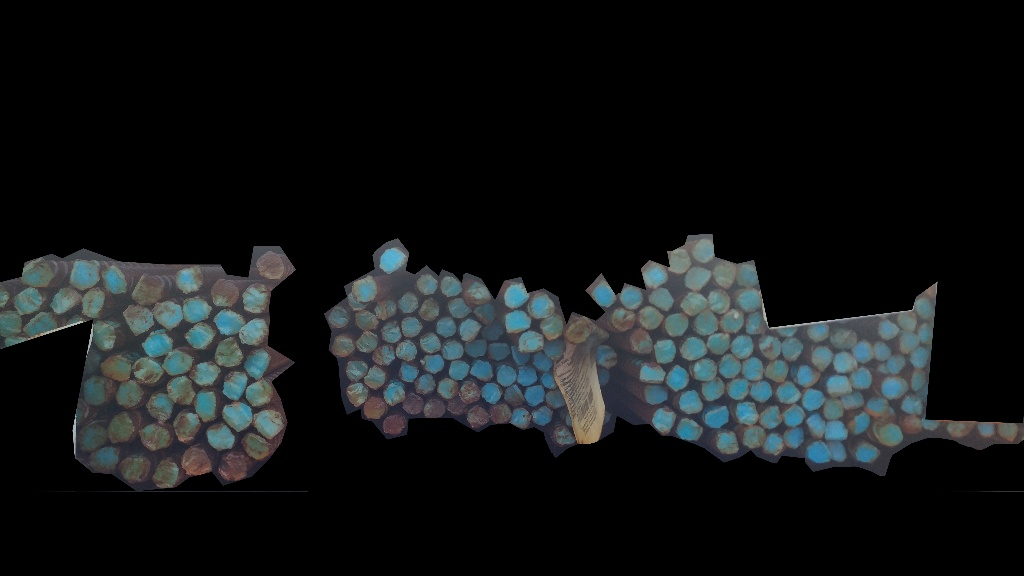dipstick: (180, 446, 212, 478), (21, 259, 54, 290), (68, 259, 102, 289), (253, 409, 284, 441), (123, 304, 154, 336), (221, 402, 252, 433), (240, 284, 270, 316), (80, 422, 108, 455), (107, 413, 136, 444), (150, 301, 183, 328), (242, 433, 272, 462), (218, 453, 247, 483), (12, 288, 43, 316), (161, 349, 194, 375), (212, 309, 246, 334), (238, 318, 267, 347), (174, 265, 203, 294), (115, 378, 143, 408), (193, 391, 220, 422), (139, 424, 170, 451), (101, 354, 132, 381), (141, 331, 174, 356), (351, 276, 379, 305), (211, 279, 239, 308), (214, 338, 243, 366), (132, 357, 162, 384), (184, 324, 215, 350), (131, 276, 163, 301), (255, 251, 283, 279), (118, 455, 145, 484), (101, 266, 128, 295), (221, 371, 247, 401), (174, 414, 200, 444), (24, 313, 56, 337), (379, 248, 408, 274), (206, 424, 235, 450), (50, 289, 80, 314), (246, 380, 273, 407), (146, 393, 174, 419), (183, 298, 212, 323), (92, 322, 117, 351), (504, 309, 531, 335), (167, 378, 193, 405), (245, 350, 270, 378), (152, 460, 177, 488), (91, 447, 116, 475), (83, 376, 107, 405), (188, 363, 219, 385), (642, 262, 668, 288), (79, 291, 105, 317), (462, 282, 491, 305), (775, 381, 801, 406), (680, 336, 706, 361), (680, 292, 707, 316), (504, 282, 528, 309), (652, 408, 677, 433), (649, 286, 674, 311), (539, 313, 563, 339), (684, 268, 711, 291), (666, 364, 689, 391), (833, 350, 858, 374), (713, 264, 737, 289), (665, 313, 690, 337), (592, 281, 616, 306), (594, 345, 618, 370), (825, 374, 851, 397), (721, 307, 744, 333), (693, 311, 719, 334), (811, 345, 833, 372), (830, 328, 858, 349), (529, 296, 554, 319), (519, 331, 544, 354), (458, 318, 481, 343), (344, 359, 367, 384), (637, 307, 663, 329), (676, 419, 703, 440), (880, 422, 903, 446), (782, 404, 806, 427), (759, 405, 782, 429), (730, 335, 754, 358), (707, 332, 731, 355), (613, 308, 637, 331), (466, 405, 489, 429), (363, 366, 387, 389), (881, 378, 906, 400), (854, 441, 879, 463), (737, 288, 762, 310), (653, 338, 675, 363), (668, 249, 690, 274), (620, 285, 642, 310), (630, 331, 652, 356), (346, 382, 368, 407), (693, 238, 714, 264), (947, 420, 977, 438), (780, 337, 803, 360), (758, 336, 781, 359), (742, 426, 765, 449), (702, 378, 725, 401), (396, 291, 419, 314), (364, 397, 387, 420), (901, 393, 923, 417), (826, 438, 848, 462), (764, 360, 788, 382), (736, 401, 758, 425), (745, 310, 767, 334), (708, 289, 730, 313), (644, 383, 668, 405), (458, 381, 480, 405), (355, 331, 379, 353), (640, 363, 666, 383), (822, 397, 845, 419), (801, 389, 824, 411), (749, 379, 771, 402), (741, 356, 763, 379), (717, 354, 739, 377), (680, 390, 703, 412), (440, 275, 462, 298), (383, 383, 406, 405), (327, 306, 350, 328), (332, 334, 354, 357), (824, 420, 848, 441), (796, 365, 820, 386), (705, 407, 729, 428), (419, 298, 440, 322), (470, 360, 494, 381), (420, 354, 444, 375), (805, 443, 830, 463), (380, 414, 405, 434), (896, 331, 918, 353), (737, 265, 759, 287), (727, 378, 749, 400), (517, 366, 539, 388), (397, 361, 419, 383), (849, 368, 872, 389), (784, 426, 805, 449), (717, 431, 738, 454), (449, 298, 472, 319), (442, 339, 465, 360), (371, 344, 394, 365), (840, 391, 864, 411), (399, 316, 423, 336), (353, 309, 377, 329), (852, 341, 873, 363), (847, 412, 869, 433), (807, 322, 829, 343), (762, 434, 784, 455), (496, 365, 517, 387), (416, 274, 438, 295), (419, 332, 441, 353), (1, 312, 22, 334), (511, 406, 531, 429), (503, 383, 523, 406), (487, 341, 510, 361), (807, 413, 824, 440), (488, 405, 513, 423), (435, 317, 456, 338), (395, 340, 416, 361), (543, 338, 565, 358), (524, 386, 546, 406), (553, 427, 575, 447), (424, 399, 446, 419), (867, 396, 890, 415), (915, 296, 933, 320), (532, 406, 553, 426), (481, 383, 502, 403), (374, 299, 395, 319), (877, 320, 899, 339), (482, 321, 504, 340), (448, 361, 470, 380), (403, 392, 422, 414), (897, 416, 920, 434), (887, 354, 907, 374), (414, 375, 435, 394), (438, 378, 457, 399), (473, 303, 493, 322), (446, 397, 466, 416), (379, 323, 400, 341), (910, 369, 927, 391), (465, 340, 487, 357), (999, 423, 1018, 442), (873, 341, 893, 359), (918, 322, 935, 343), (909, 348, 927, 367), (897, 312, 917, 329), (510, 345, 530, 362), (546, 390, 565, 407), (347, 292, 366, 309), (539, 371, 557, 388), (921, 416, 940, 432), (533, 353, 552, 369), (975, 422, 995, 437), (777, 325, 798, 338), (596, 367, 608, 384)
